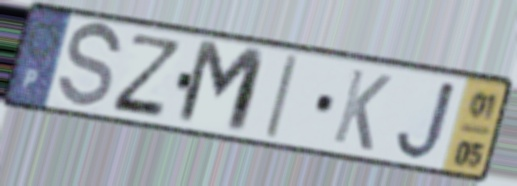I: (261, 52, 302, 143)
J: (392, 77, 461, 162)
K: (329, 65, 396, 155)
M: (172, 36, 270, 139)
S: (54, 20, 125, 113)
Z: (108, 31, 185, 121)
